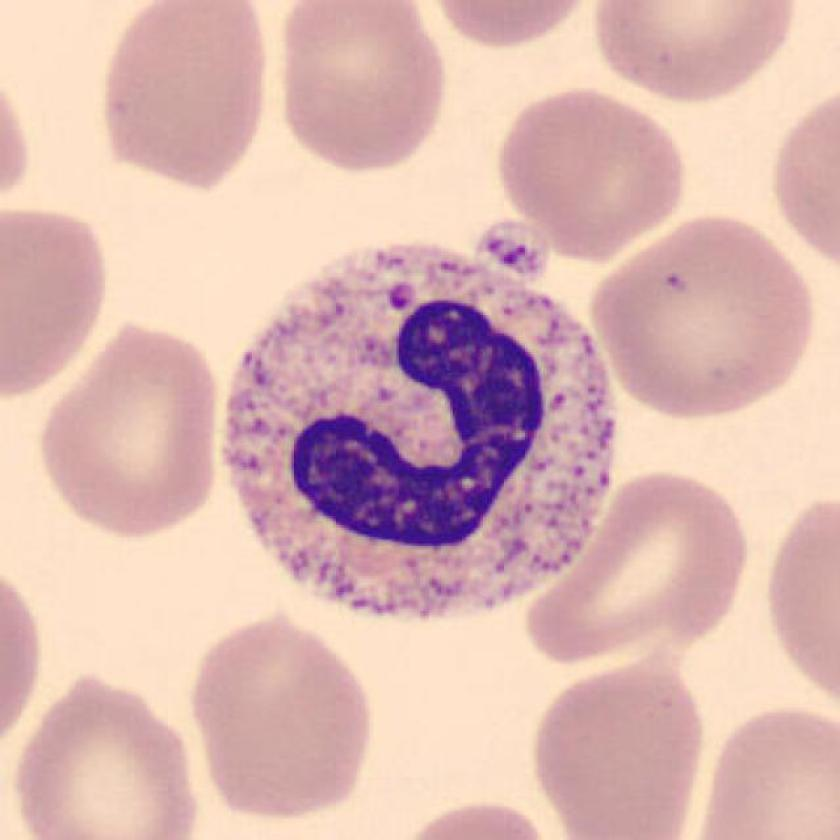neutrophil: (227, 244, 618, 614)
